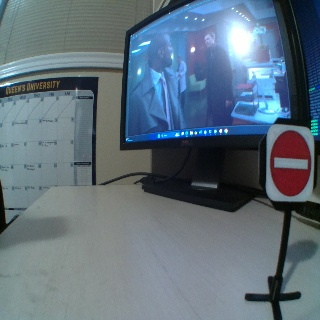sign_noentry: (265, 125, 312, 201)
